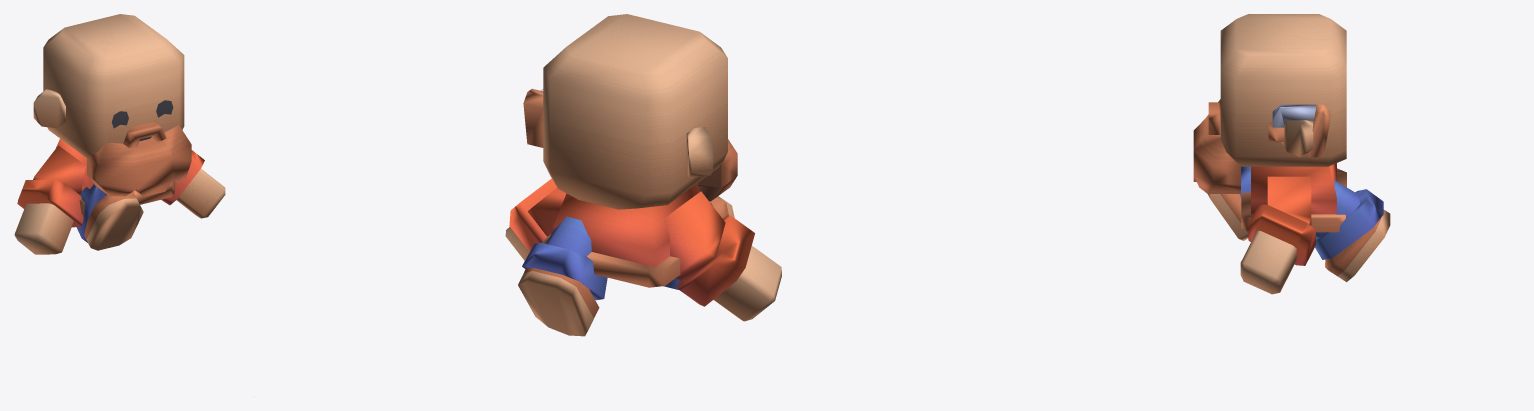
Rendered from rival_idle_0.glb.
3 renders of one model, left to right at view 1: azimuth 30°, elevation 25°; view 2: azimuth 150°, elevation 25°; view 3: azimuth 270°, elevation 25°, orthographic. The views are drawn at different scales.
Parts seen in each view (by area): view 1: rival-idle-0; view 2: rival-idle-0; view 3: rival-idle-0.
Part boxes in pixels (<box>): rival-idle-0: <box>14,14,225,254</box>; rival-idle-0: <box>505,14,781,336</box>; rival-idle-0: <box>1193,14,1390,294</box>.
Size of the model in its own units: 1.2 by 0.7363 by 1.2.
Materials: 1 (1 with a texture image).
